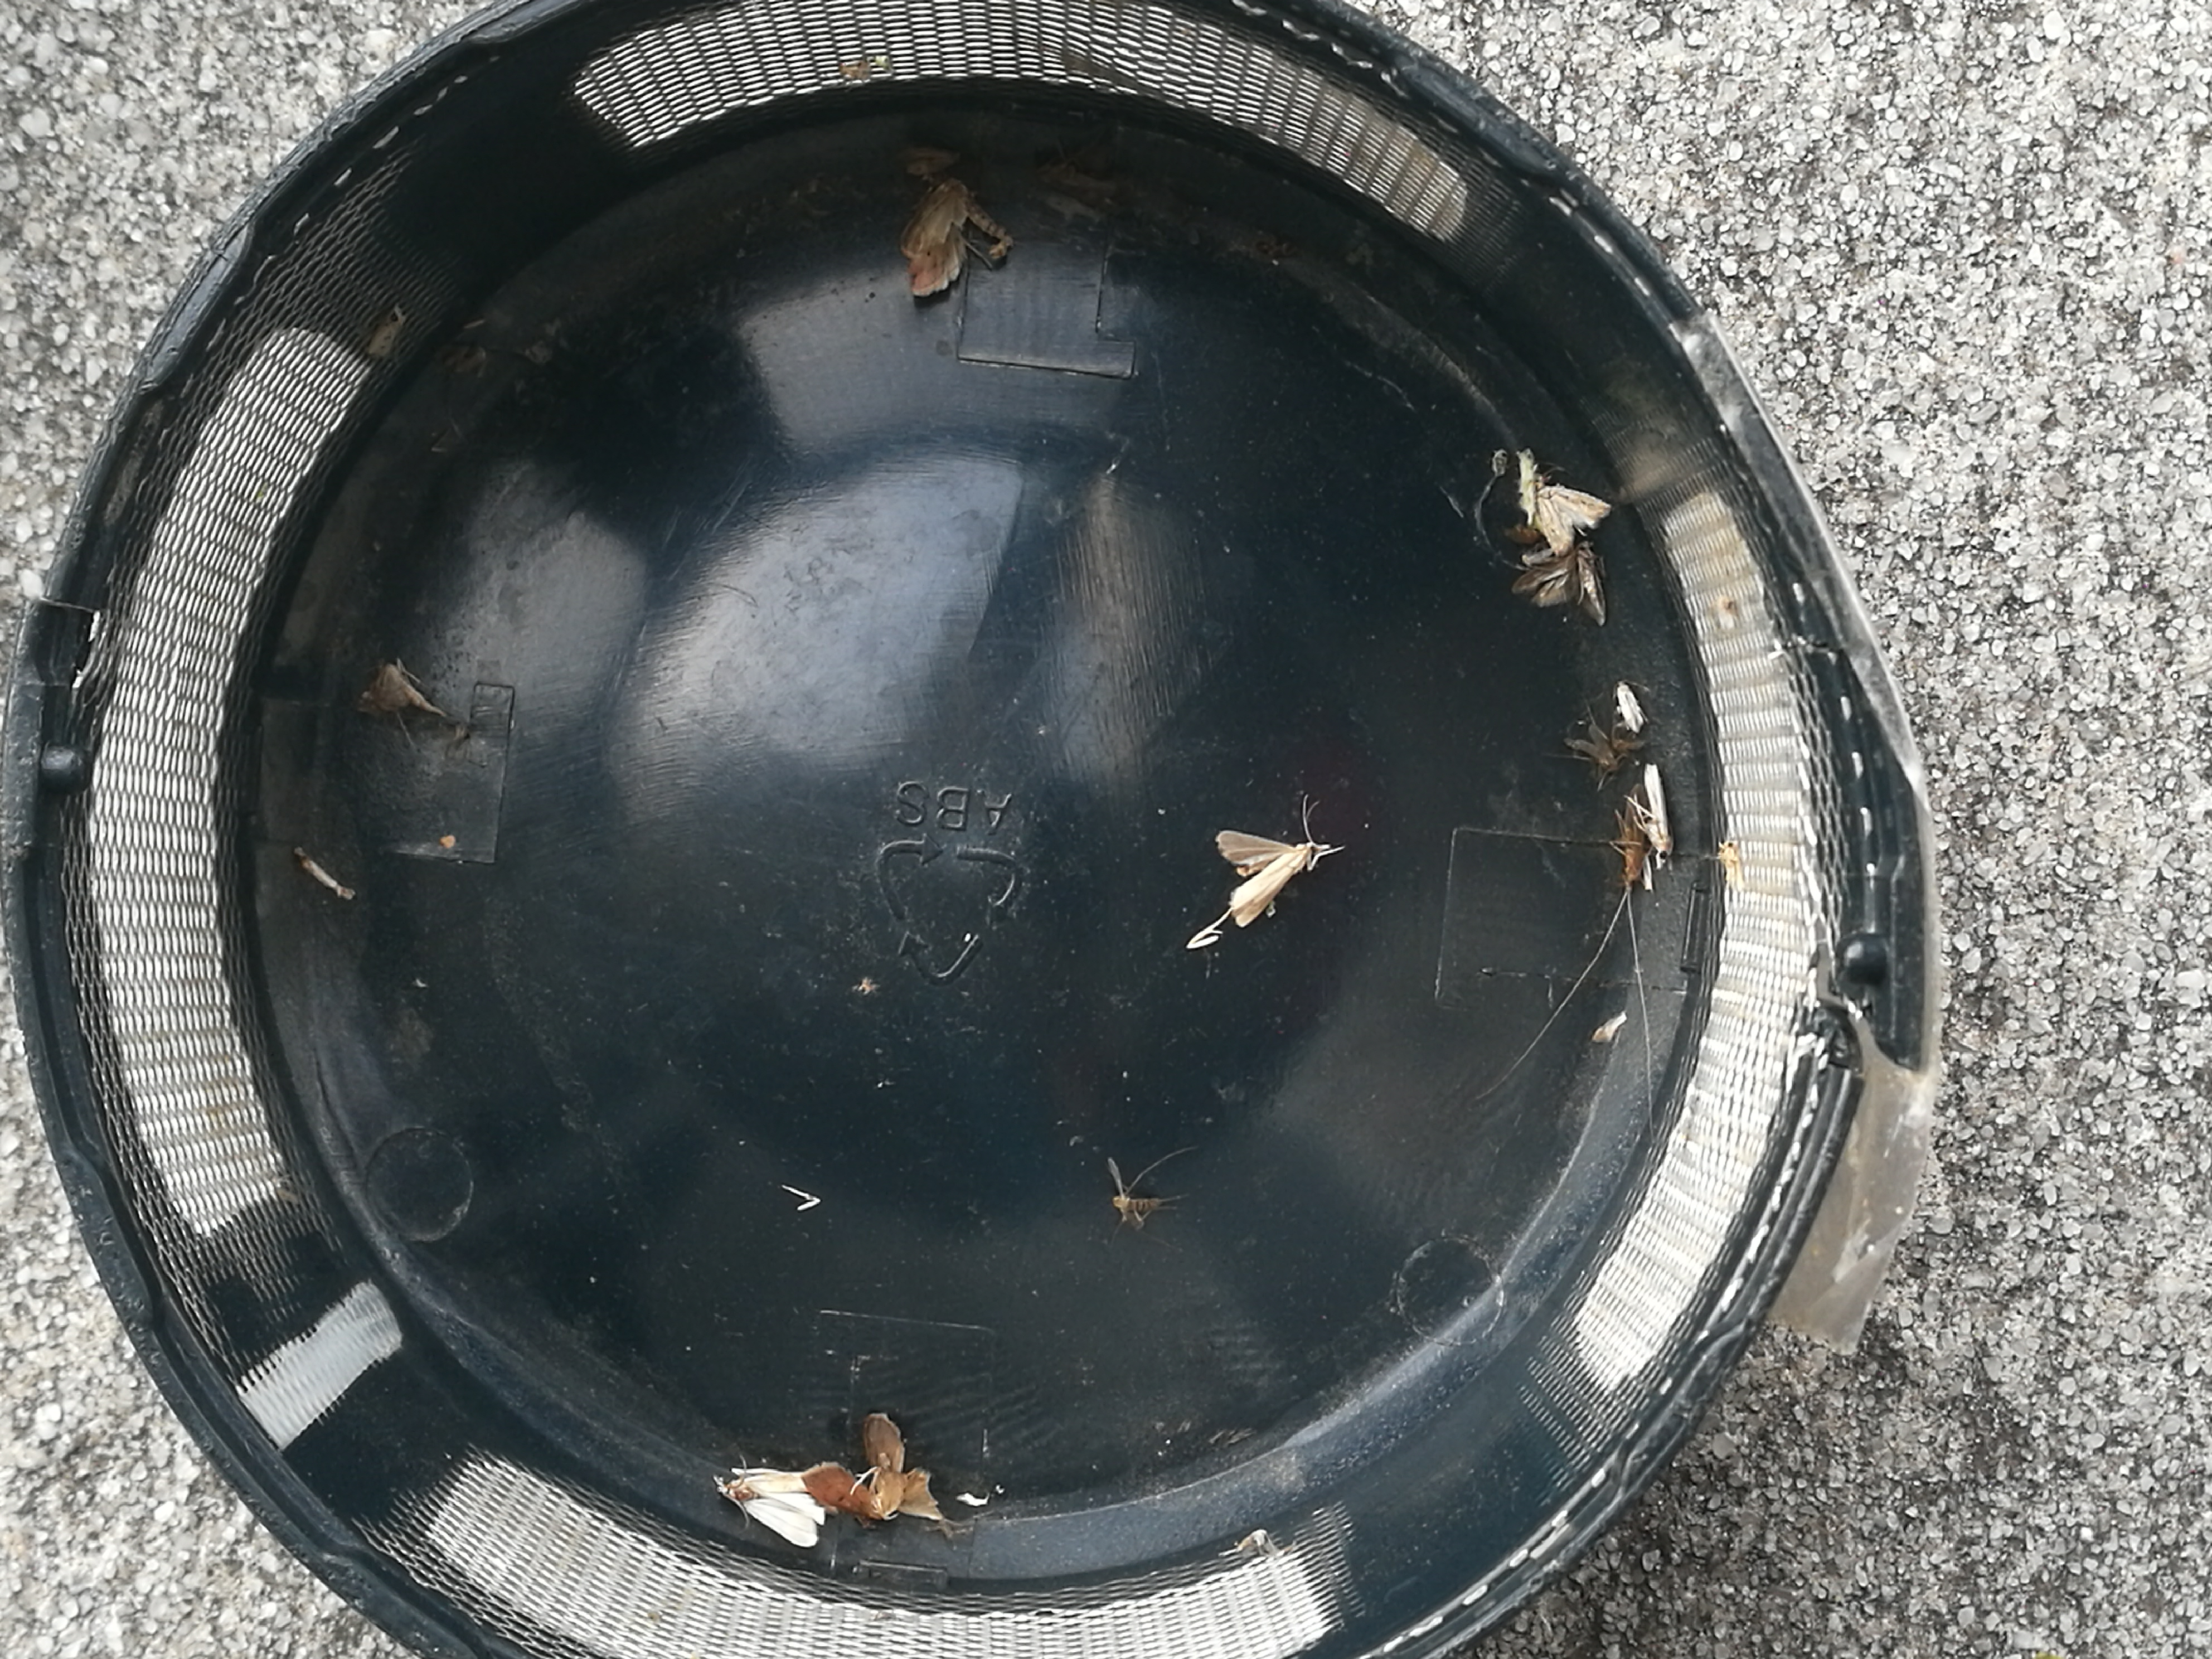mosquito: (1642, 763, 1672, 870), (1575, 538, 1606, 627), (1622, 789, 1642, 885), (1618, 680, 1642, 730)
moth: (902, 174, 1012, 295), (805, 1413, 906, 1521), (1217, 831, 1315, 927), (718, 1469, 827, 1549), (1534, 484, 1609, 559), (361, 662, 448, 714), (897, 143, 960, 174)
